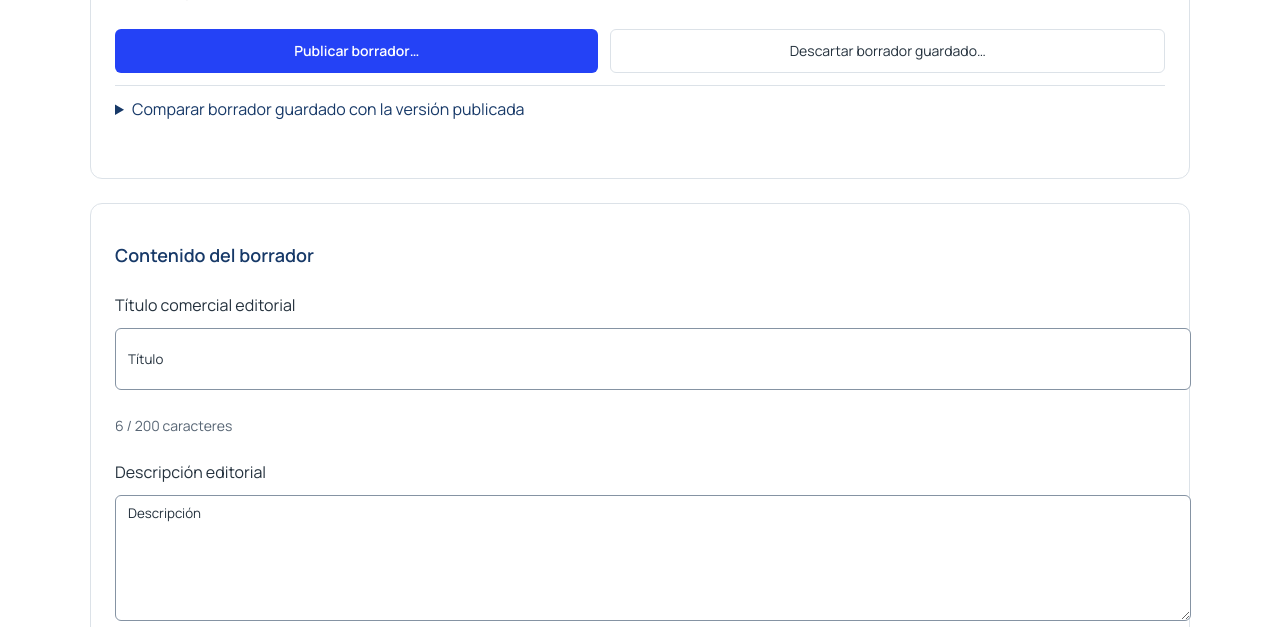
Scenario: editorial publication public UI › separates saved, published and local state before the form
The image size is (1280, 627).
(page scrolled)
Replace the text in the field with id "editorial-commercialTitle" with "Local" at (653, 359), box x1=115 y1=328 x2=1191 y2=390
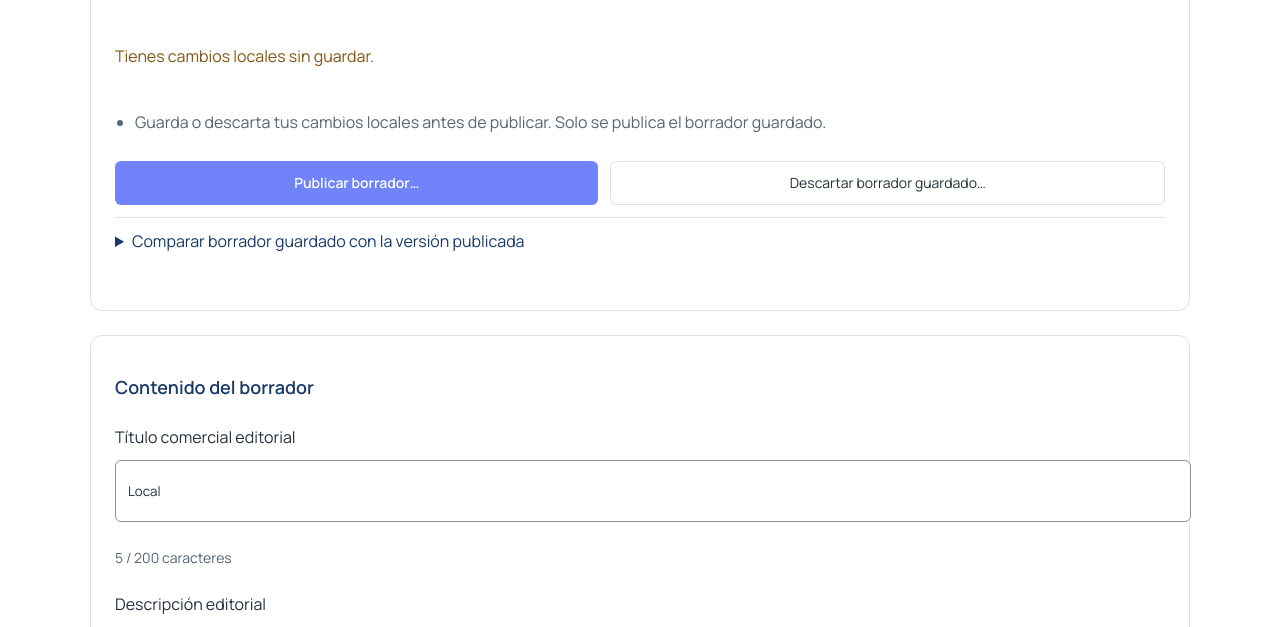
Check: the element that starts with "Publicación" shows "Tienes cambios locales sin guardar.", box x1=115 y1=45 x2=374 y2=67
Check: the element that starts with "Publicación" shows "Guarda o descarta tus cambios locales antes de publicar. Solo se publica el borrador guardado.", box x1=135 y1=111 x2=826 y2=133
Check: the button "Publicar borrador…" is disabled, box x1=115 y1=161 x2=598 y2=205
